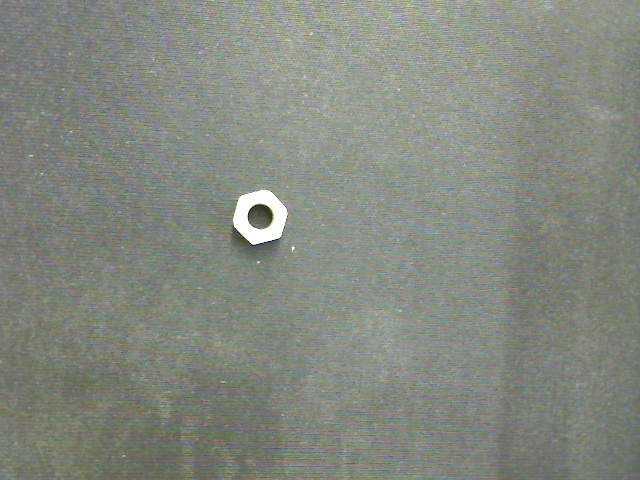Nut: (233, 190, 288, 244)
